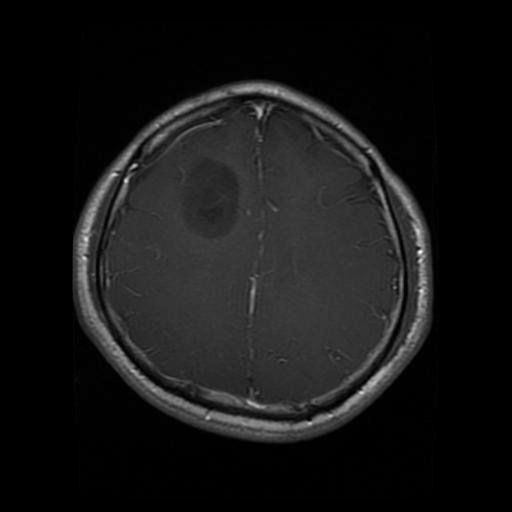Tumour-Glioma: (183, 161, 247, 250)
